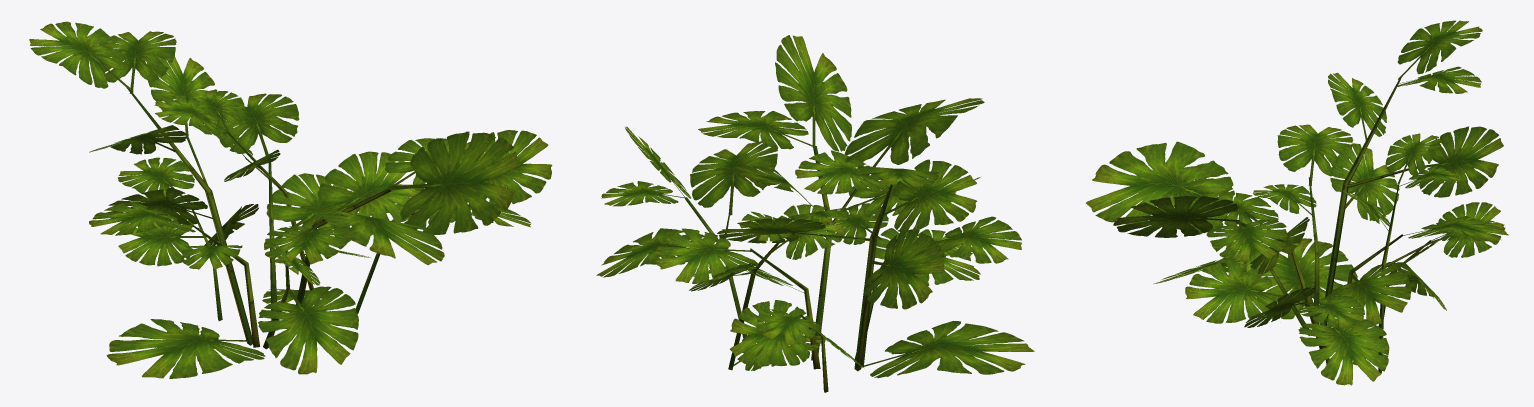
File: kuoyeguanmu_xn_42_03.FBX
3 renders of one model, left to right at view 1: azimuth 30°, elevation 25°; view 2: azimuth 150°, elevation 25°; view 3: azimuth 270°, elevation 25°, orthographic. The views are drawn at different scales.
Parts seen in each view (by area): view 1: kuoyeguanmu_xn_42_03; view 2: kuoyeguanmu_xn_42_03; view 3: kuoyeguanmu_xn_42_03.
Boxes of the visible parts, bbox=[...] form: kuoyeguanmu_xn_42_03: bbox=[29, 21, 552, 378]; kuoyeguanmu_xn_42_03: bbox=[596, 35, 1034, 392]; kuoyeguanmu_xn_42_03: bbox=[1086, 20, 1508, 385].
Size of the model in its own units: 596 by 369 by 583.
